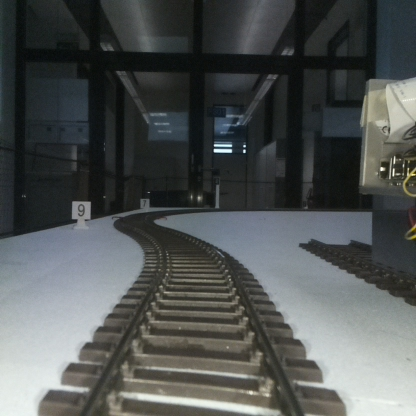white-stop-9: (72, 201, 90, 227)
